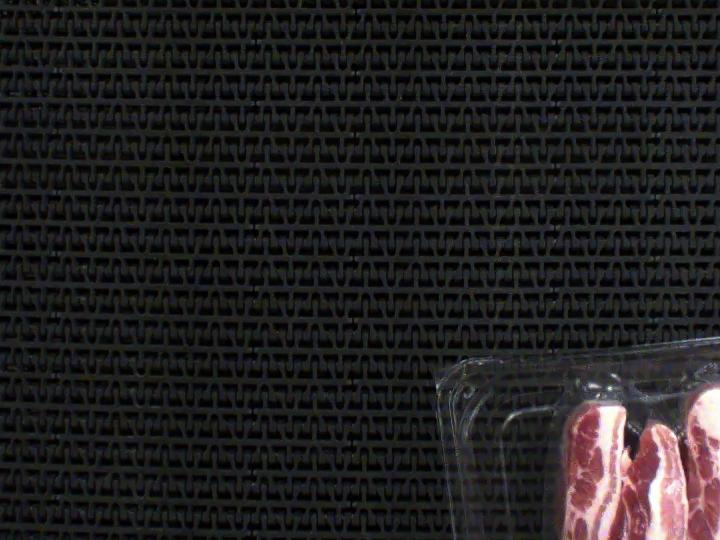unsealed: (553, 346, 720, 434)
